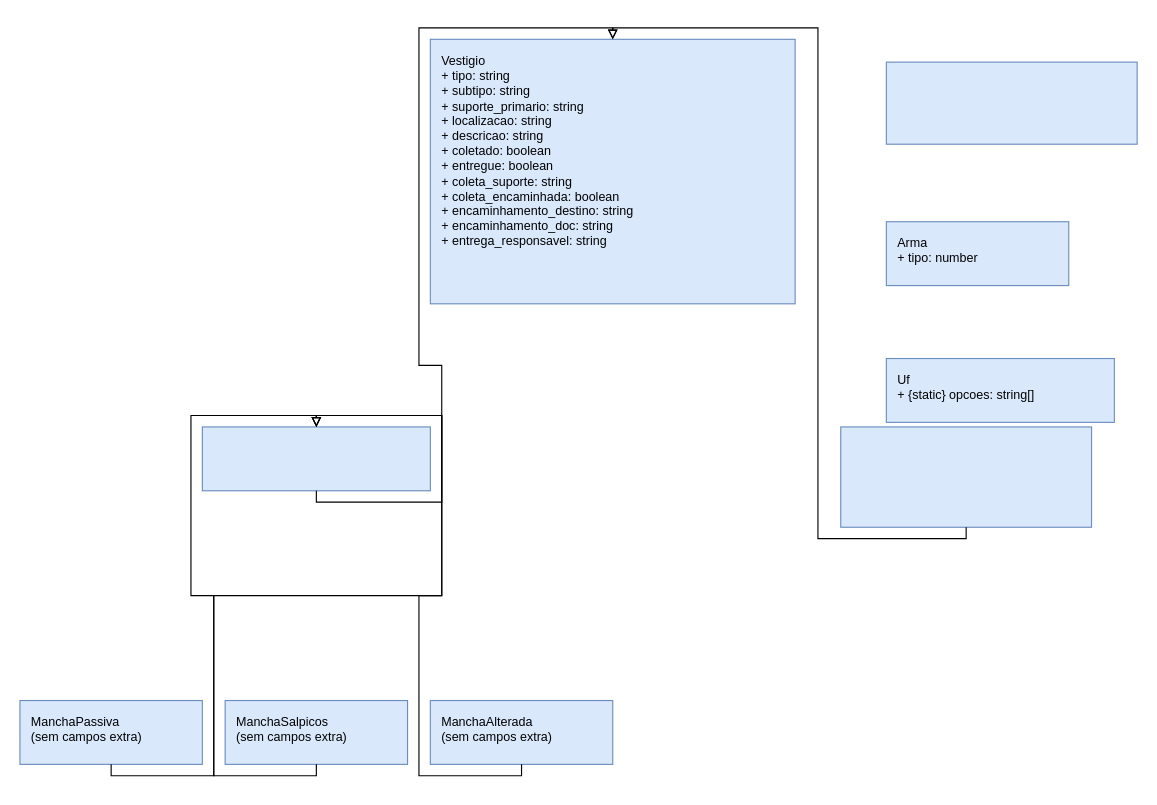
Image size: 1157x805. Some labels were removed from this diagram. Here are the shapes that lost their labels. From the top down, the centre of each, then its label:
At (x=1011, y=102): "VestigioVitima # tipo: string + visao: string".
At (x=315, y=458): "Mancha + padrao: string".
At (x=966, y=476): "Ferimento + natureza: string + x: number + y: number".
